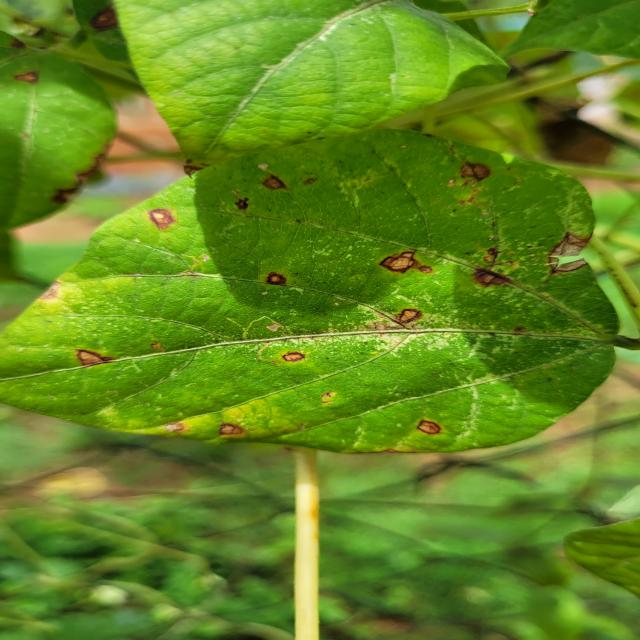Dolicos bean_cercospora leaf spot: (0, 126, 626, 457)
Dolicos bean_healthy: (109, 0, 513, 174)
